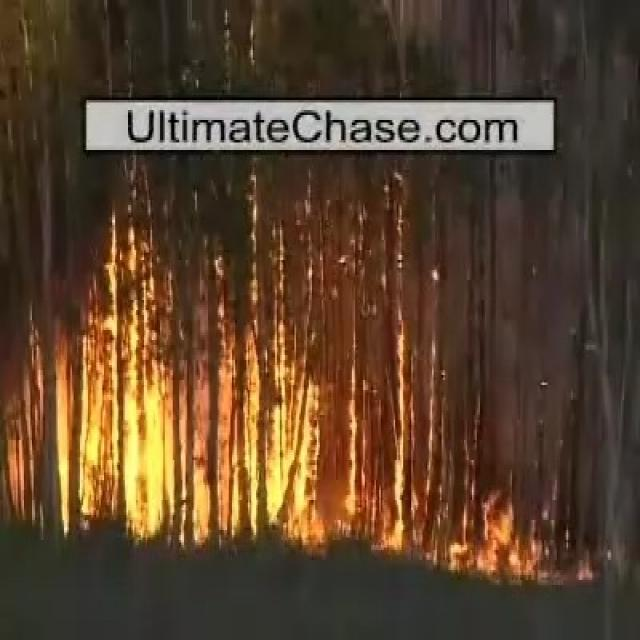fire: (125, 357, 172, 528), (268, 399, 318, 545)
